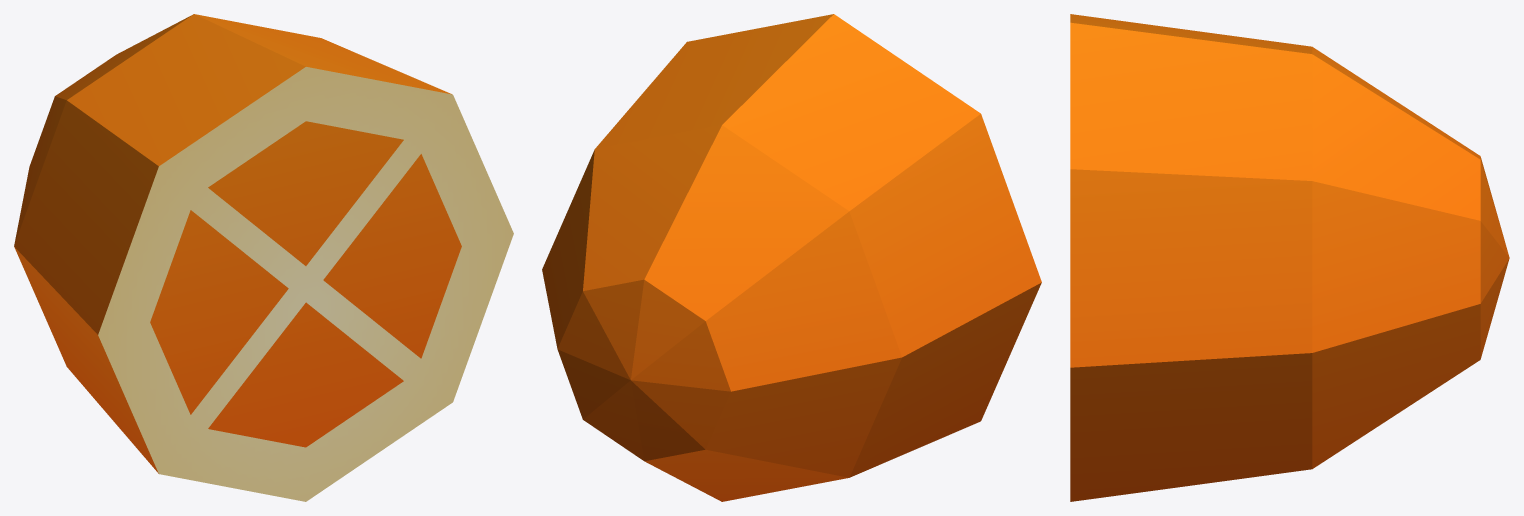
The model's file is Kumquat Half.fbx.
3 renders of one model, left to right at view 1: azimuth 30°, elevation 25°; view 2: azimuth 150°, elevation 25°; view 3: azimuth 270°, elevation 25°, orthographic. The views are drawn at different scales.
Parts seen in each view (by area): view 1: Kumquat Half; view 2: Kumquat Half; view 3: Kumquat Half.
Part boxes in pixels (x1,y1,x2,y2): Kumquat Half: (14,14,513,501); Kumquat Half: (542,14,1041,501); Kumquat Half: (1070,14,1509,501).
Size of the model in its own units: 6.95 by 6.95 by 5.88.
